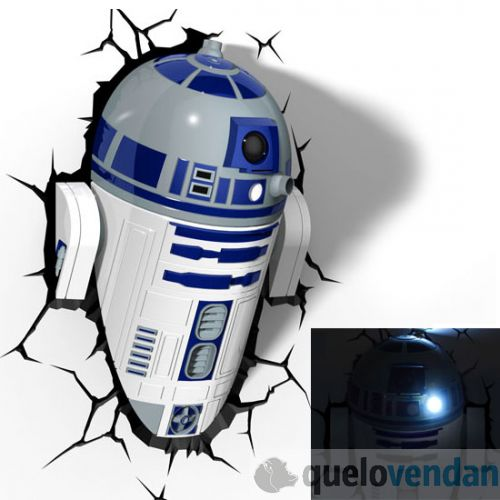r2d2: (98, 41, 302, 303)
